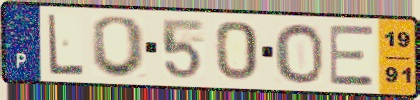0: (213, 19, 262, 83)
5: (159, 17, 207, 80)
E: (327, 24, 377, 88)
L: (46, 12, 86, 77)
O: (89, 14, 149, 80), (272, 21, 326, 86)
